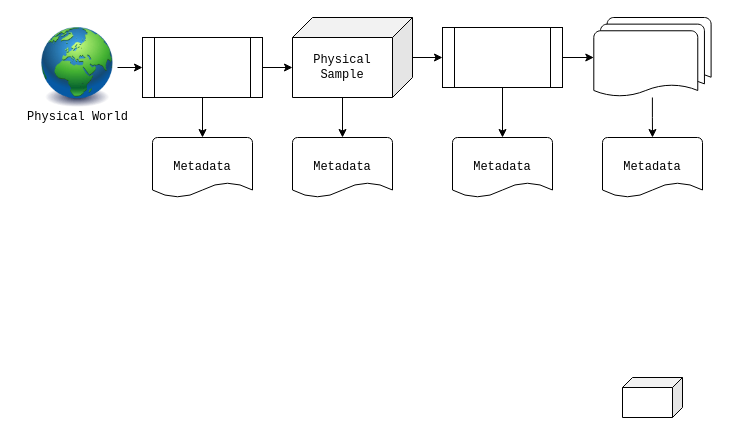
This 729x435 diagram has some shape labels left out. The centre of each missing label's shape, as x and y in pixels:
"Measurement Data" belongs at [652,57].
"Process creating measurement data" belongs at [502,57].
"Process creating physical sample" belongs at [202,67].
